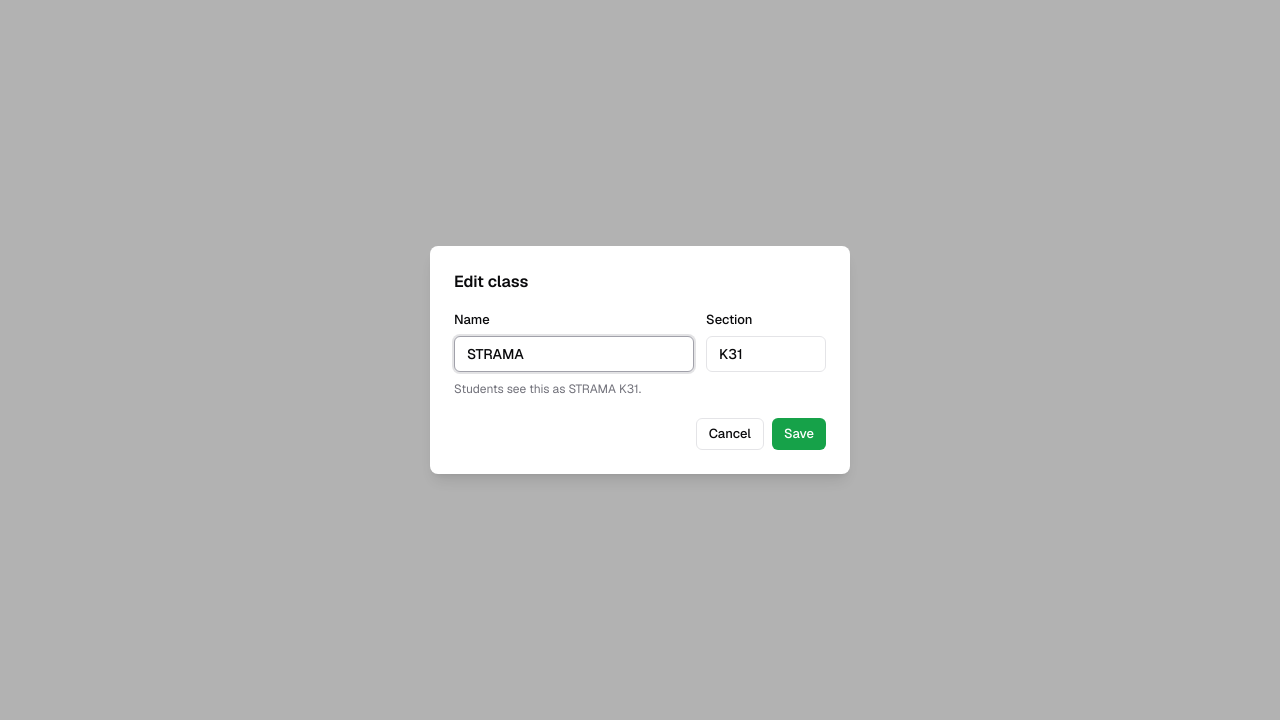
Test case: the class form › names the clash when the class already exists
This screenshot has width=1280, height=720.
Click the button "Save".
click(799, 434)  # box [772,418,826,450]
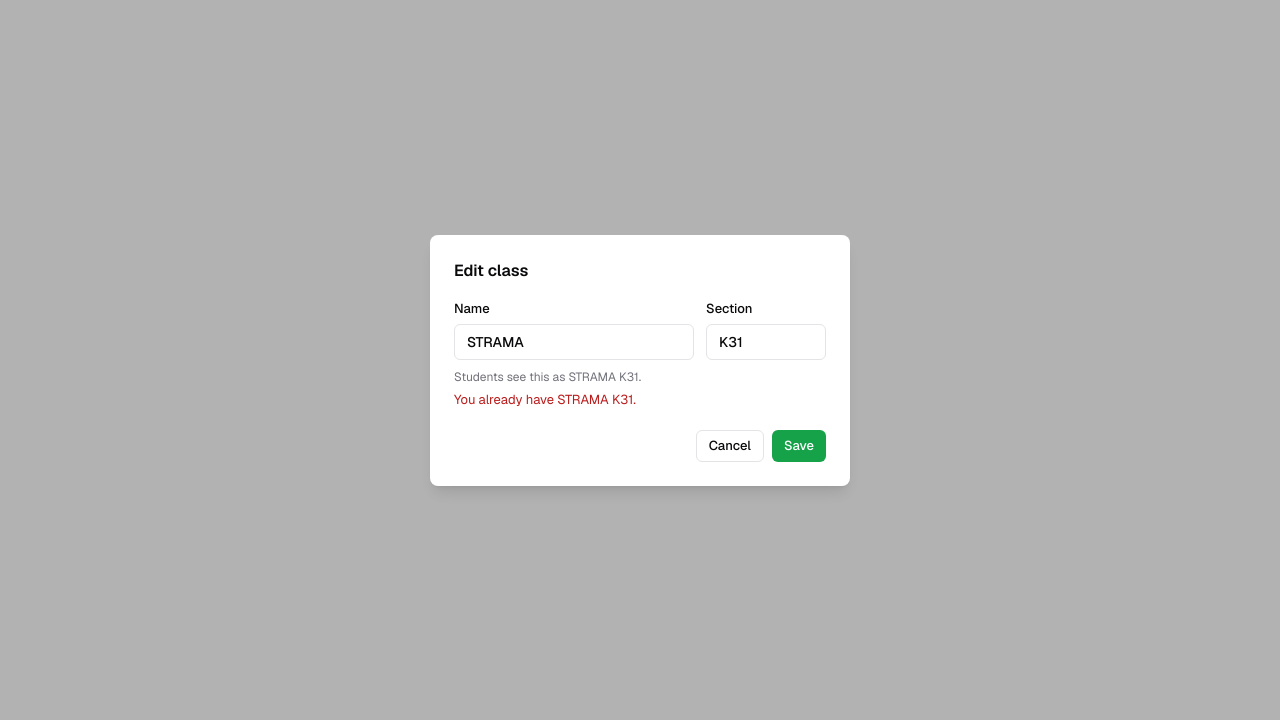
Check: the text "You already have STRAMA K31." is shown, box [454,391,636,408]
